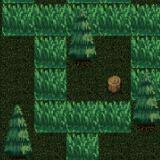Obstacle: (67, 35, 99, 68), (99, 68, 130, 100), (0, 133, 35, 160), (131, 100, 160, 132)
Slow: (2, 4, 160, 36), (34, 35, 67, 133), (67, 101, 99, 160), (131, 36, 160, 100), (99, 101, 131, 133)
